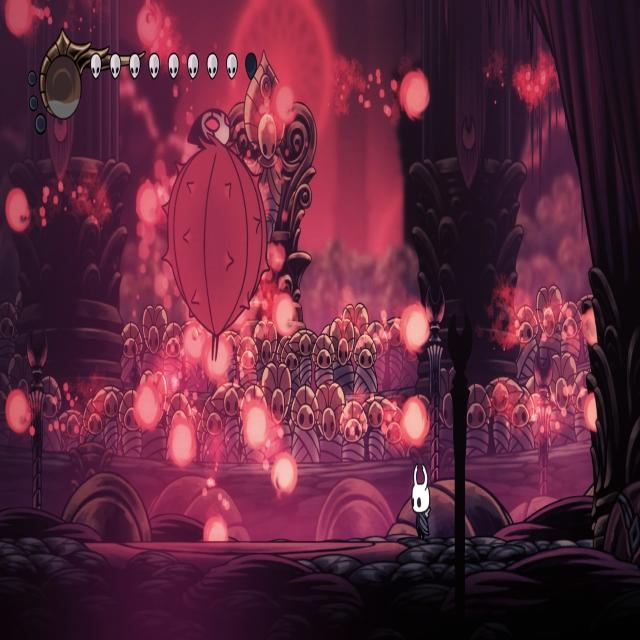Player: (411, 456, 436, 542)
Pufferfish: (160, 108, 274, 367)
Tiny Fireballs: (401, 70, 431, 120), (401, 396, 429, 445), (168, 418, 196, 467), (133, 383, 161, 432), (242, 400, 270, 449), (402, 305, 429, 353), (137, 0, 162, 48), (203, 338, 230, 382), (5, 388, 30, 434), (6, 188, 30, 233), (274, 294, 298, 338), (272, 454, 297, 495), (4, 0, 32, 36), (182, 321, 205, 364), (272, 85, 294, 127), (582, 300, 599, 348), (585, 391, 600, 432), (205, 518, 228, 542)
